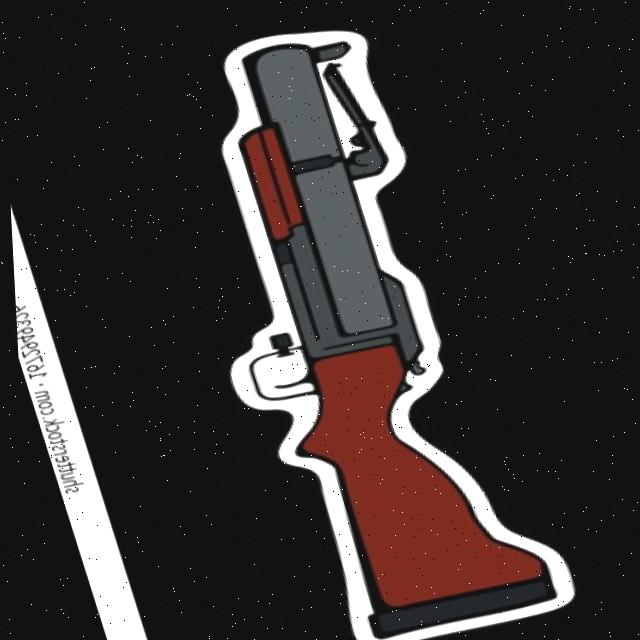rocket: (149, 8, 557, 640)
